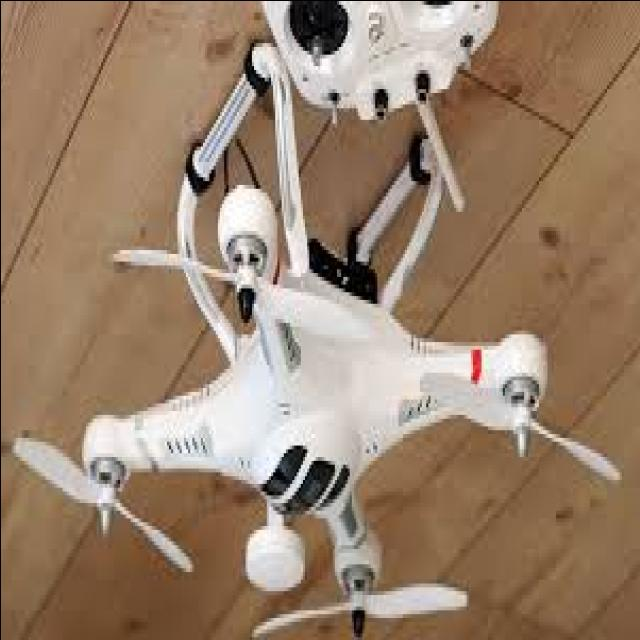drone: (44, 42, 602, 640)
